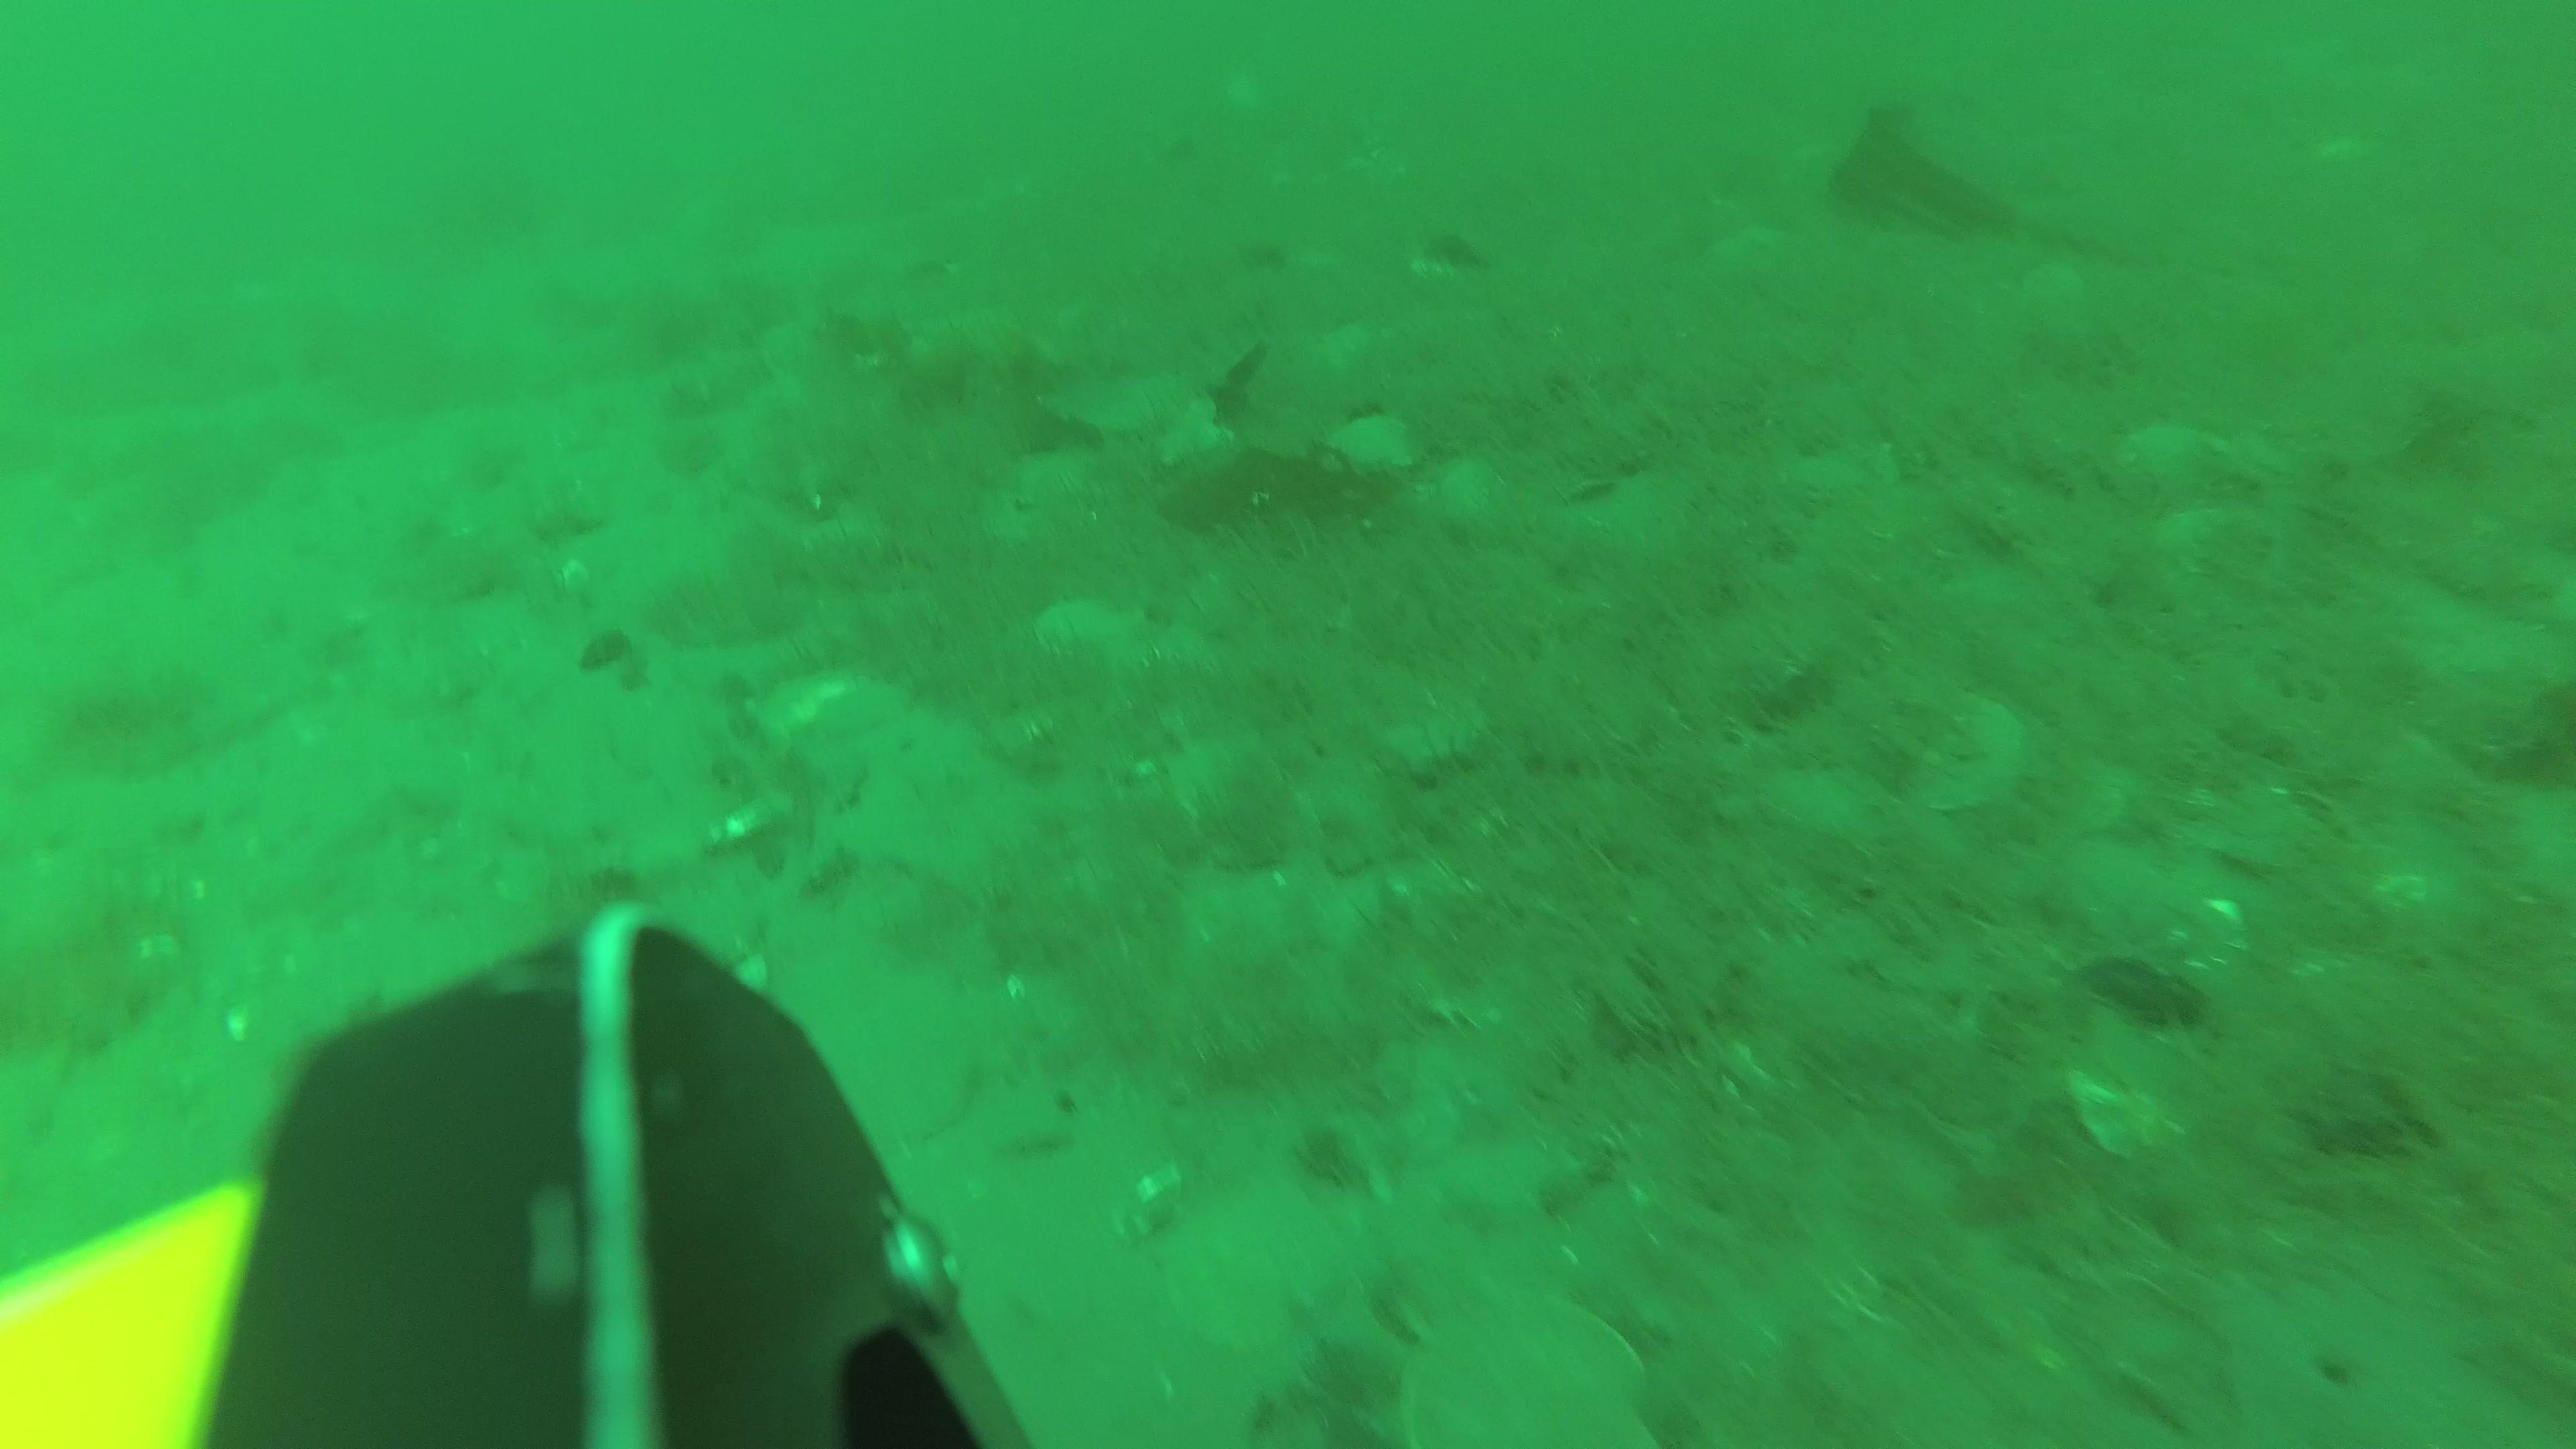scallop: (1407, 1293, 1658, 1449), (1171, 1173, 1341, 1357), (801, 1008, 975, 1154), (1909, 694, 2028, 809), (752, 671, 909, 747), (1040, 591, 1139, 658), (1327, 412, 1419, 478)
